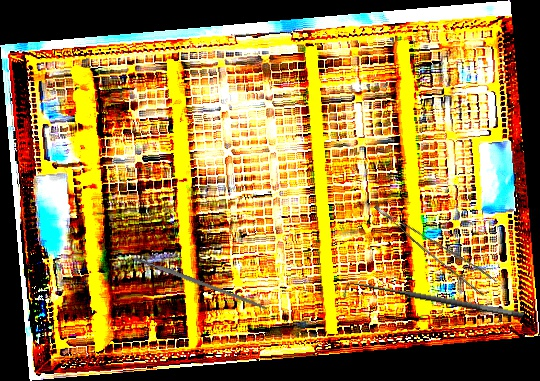Hook Surgical: (341, 275, 525, 333)
Scalpel Handle: (133, 254, 269, 312)
Tissue Forceps: (374, 187, 497, 302)
